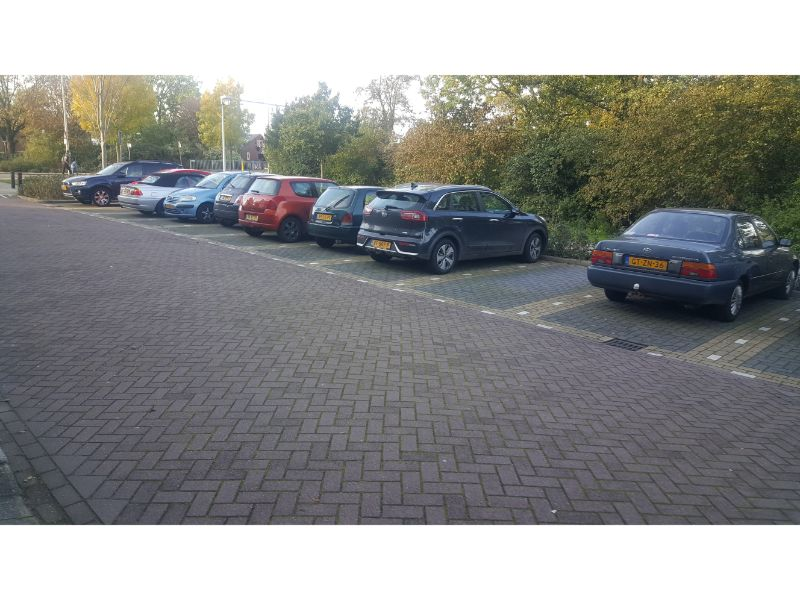kenteken: (625, 255, 668, 272), (367, 238, 394, 251), (311, 212, 337, 223)
